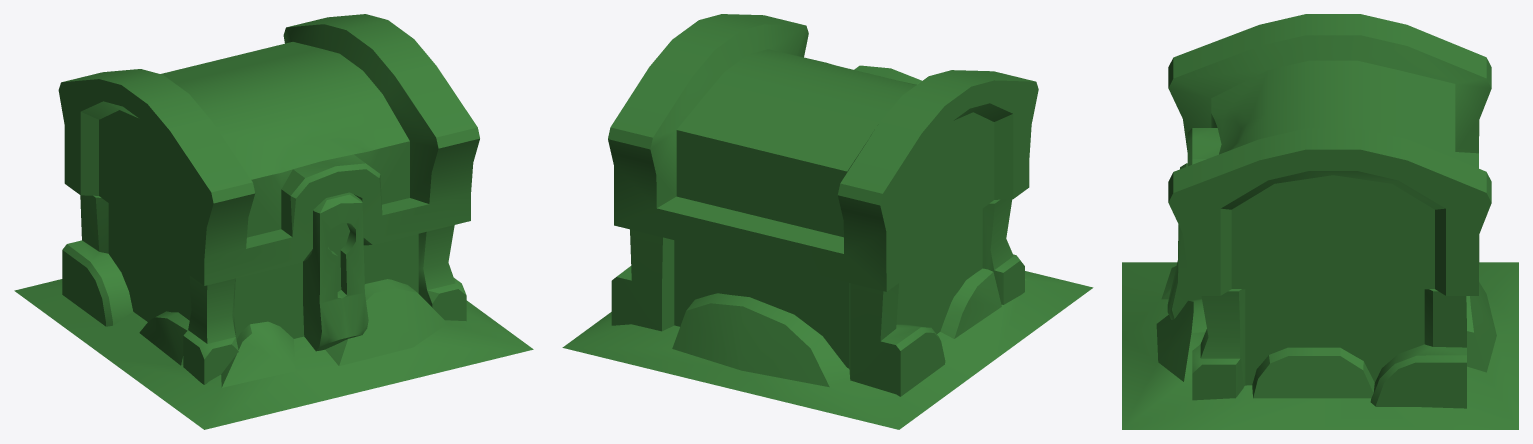
Rendered from OBJ_Chest_A.FBX.
3 renders of one model, left to right at view 1: azimuth 30°, elevation 25°; view 2: azimuth 150°, elevation 25°; view 3: azimuth 270°, elevation 25°, orthographic. The views are drawn at different scales.
Visible parts, largest first — view 1: OBJ_Chest_01, OBJ_Chest_02; view 2: OBJ_Chest_01, OBJ_Chest_02; view 3: OBJ_Chest_01, OBJ_Chest_02.
Boxes of the visible parts, x1,y1,x2,y2 form: OBJ_Chest_01: [58, 14, 479, 285]; OBJ_Chest_02: [14, 192, 533, 429]; OBJ_Chest_01: [608, 14, 1038, 291]; OBJ_Chest_02: [562, 199, 1093, 429]; OBJ_Chest_01: [1168, 14, 1491, 295]; OBJ_Chest_02: [1122, 163, 1518, 429].
Bounding box in the file's own units: 12 × 8.84 × 12.
